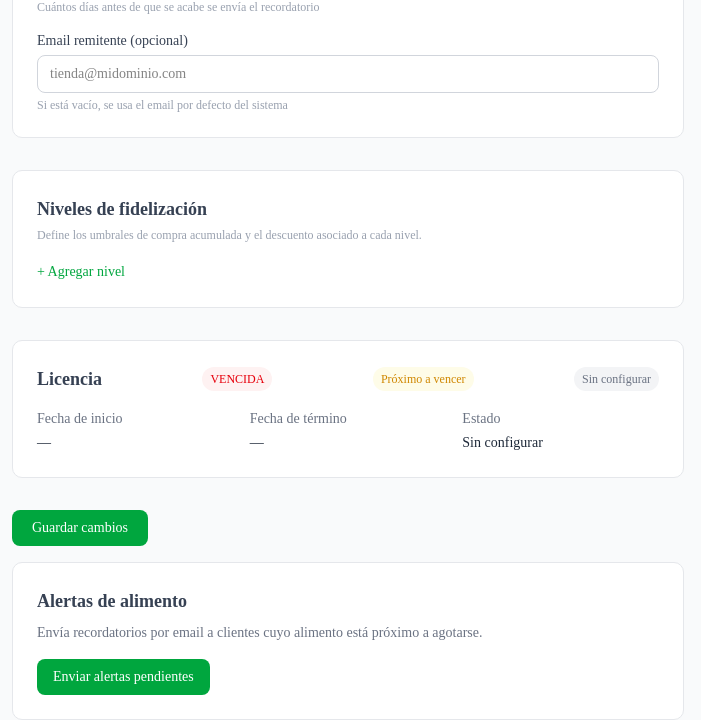
SettingsPage — enviar alertas pendientes (C-90) › C-90: otro error (500) muestra un mensaje genérico
The width and height of the screenshot is (701, 720).
(page scrolled)
What coordinates should you click on to do the following:
click the button "Enviar alertas pendientes"
I would click on:
 (123, 677)
Its box is [37,659,210,695].
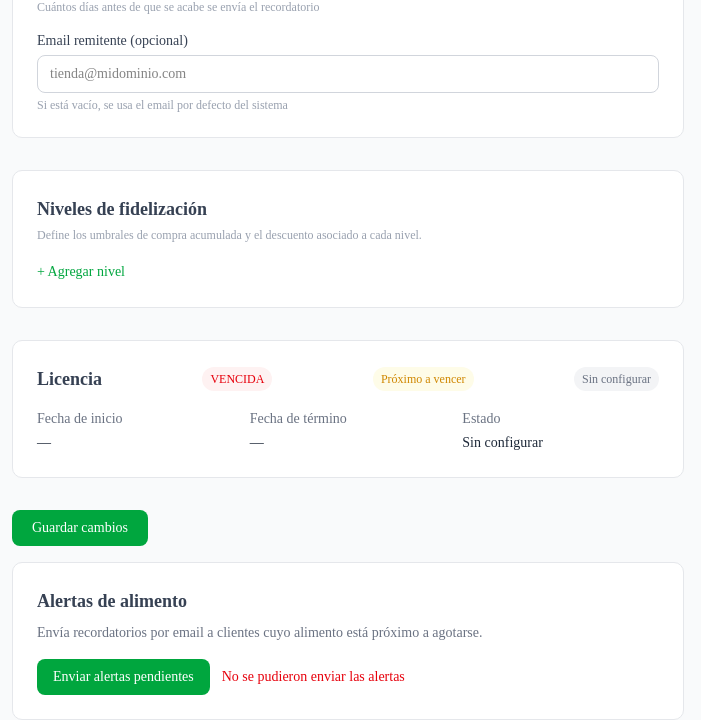
Expected: the message reads "No se pudieron enviar las alertas", [222,669,405,684]
